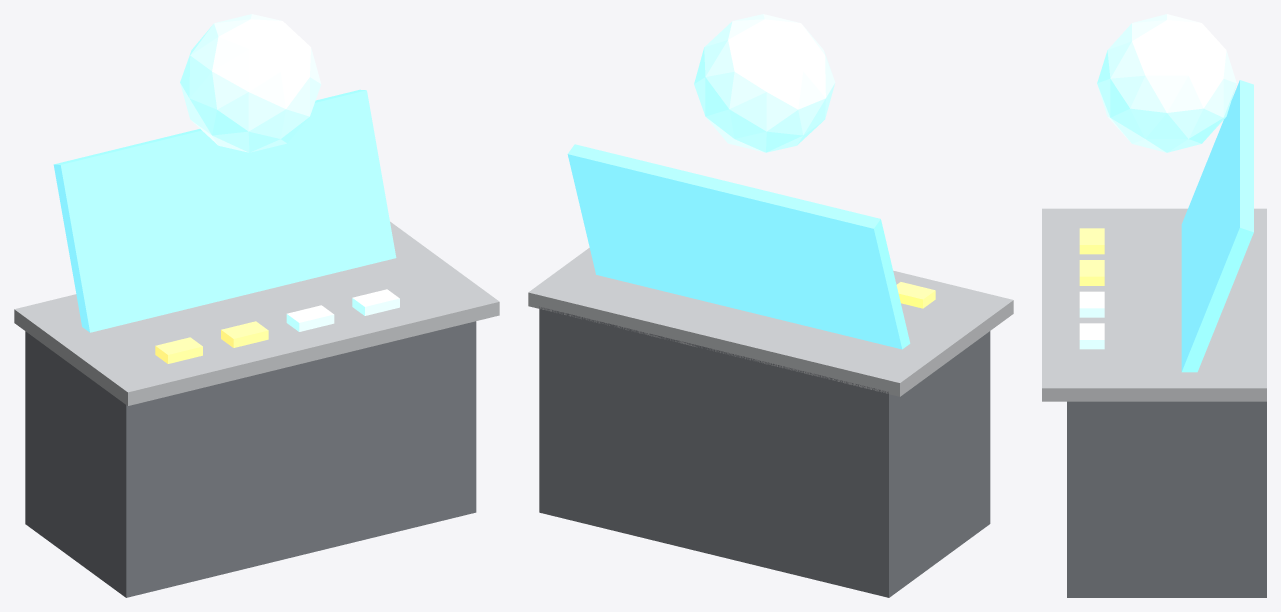
File: nav-console.glb
3 views of the same model, side by side, from view 1: azimuth 30°, elevation 25°; view 2: azimuth 150°, elevation 25°; view 3: azimuth 270°, elevation 25° (orthographic).
Visible parts, largest first — view 1: console, holo; view 2: console, holo; view 3: console, holo.
Boxes of the visible parts, bbox=[...] form: console: bbox=[14, 89, 499, 597]; holo: bbox=[180, 14, 321, 152]; console: bbox=[528, 144, 1013, 597]; holo: bbox=[694, 14, 835, 152]; console: bbox=[1042, 80, 1266, 597]; holo: bbox=[1097, 14, 1236, 152].
Bounding box in the file's own units: 1.7 × 2.18 × 0.9.
